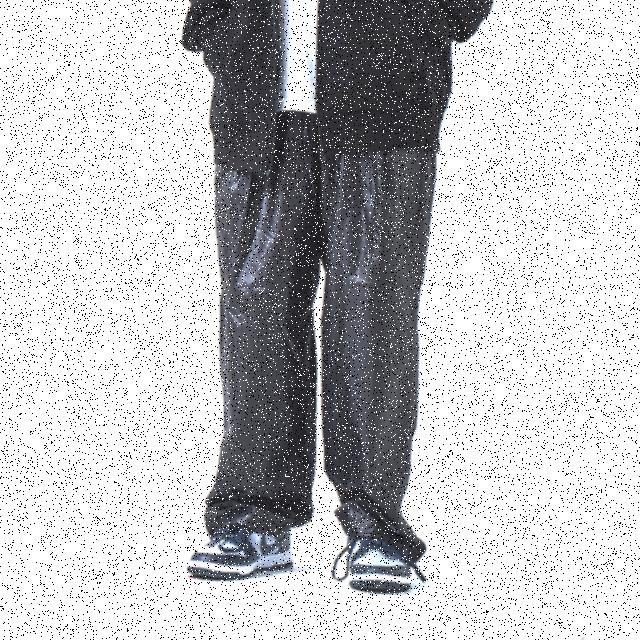dress: (190, 114, 423, 540)
